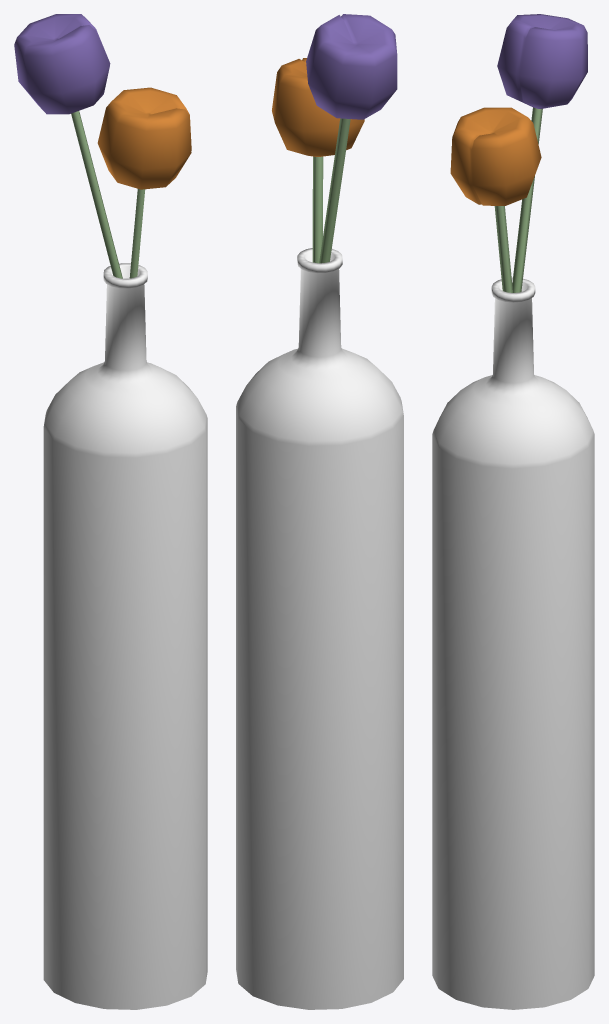
The model's file is sp_flowerpot_kitchen_a.fbx.
3 views of the same model, side by side, from view 1: azimuth 30°, elevation 25°; view 2: azimuth 150°, elevation 25°; view 3: azimuth 270°, elevation 25° (orthographic). The views are drawn at different scales.
Visible parts, largest first — view 1: sp_flowerpot_kitchen_a; view 2: sp_flowerpot_kitchen_a; view 3: sp_flowerpot_kitchen_a.
Boxes of the visible parts, left/top/right/bottom form: sp_flowerpot_kitchen_a: left=14, top=14, right=207, bottom=1009; sp_flowerpot_kitchen_a: left=236, top=14, right=403, bottom=1009; sp_flowerpot_kitchen_a: left=432, top=14, right=594, bottom=1009.
Bounding box in the file's own units: 17.09 × 97.09 × 15.3.
